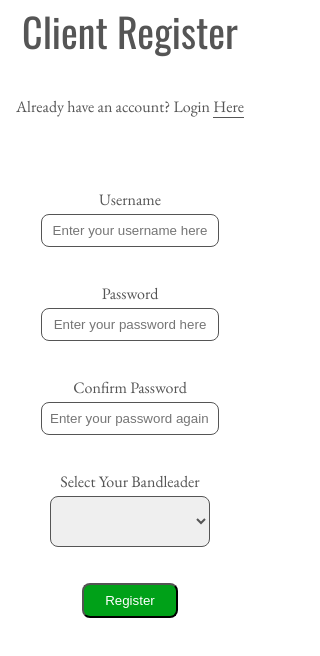
Scenario: <ClientRegisterPage/> › Unsucessfully register user › Bandleader not selected
Type "testuser@gmail.com" into the field with test id "UsernameTextInput" at (130, 230), box [41,214,219,247]
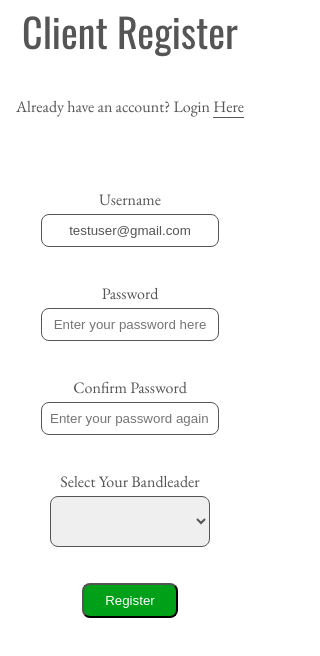
Type "testpassword" into the password field with test id "PasswordTextInput" at (130, 324), box [41,308,219,341]
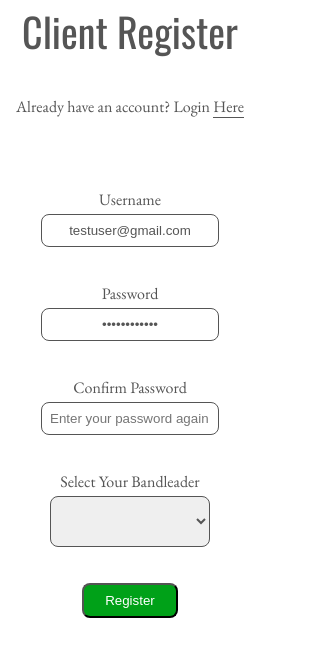
Type "testpassword" into the password field with test id "Confirm PasswordTextInput" at (130, 418), box [41,402,219,435]
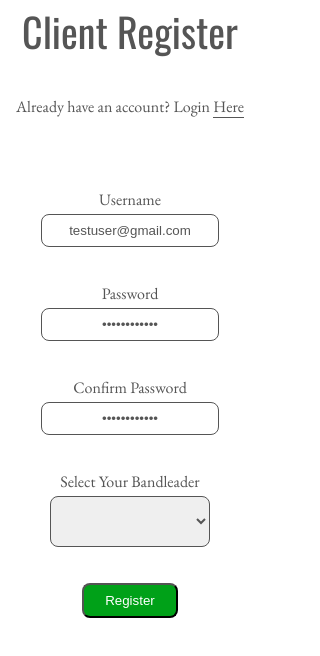
Click the button "Register" at (130, 600), box [82,583,178,618]
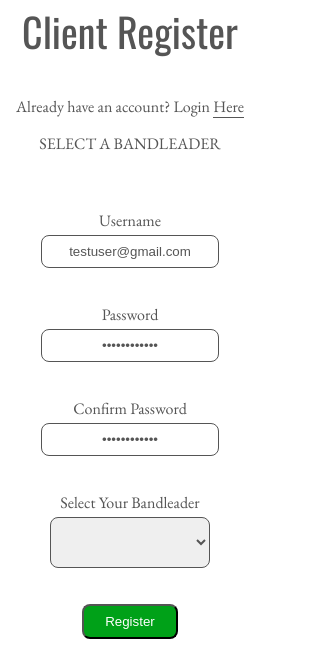
Expected: the text "SELECT A BANDLEADER" is shown, [39,133,221,154]
